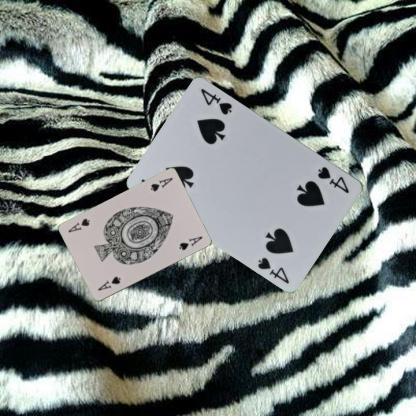4s: (315, 164, 351, 194)
As: (95, 274, 122, 292), (148, 175, 174, 193)
